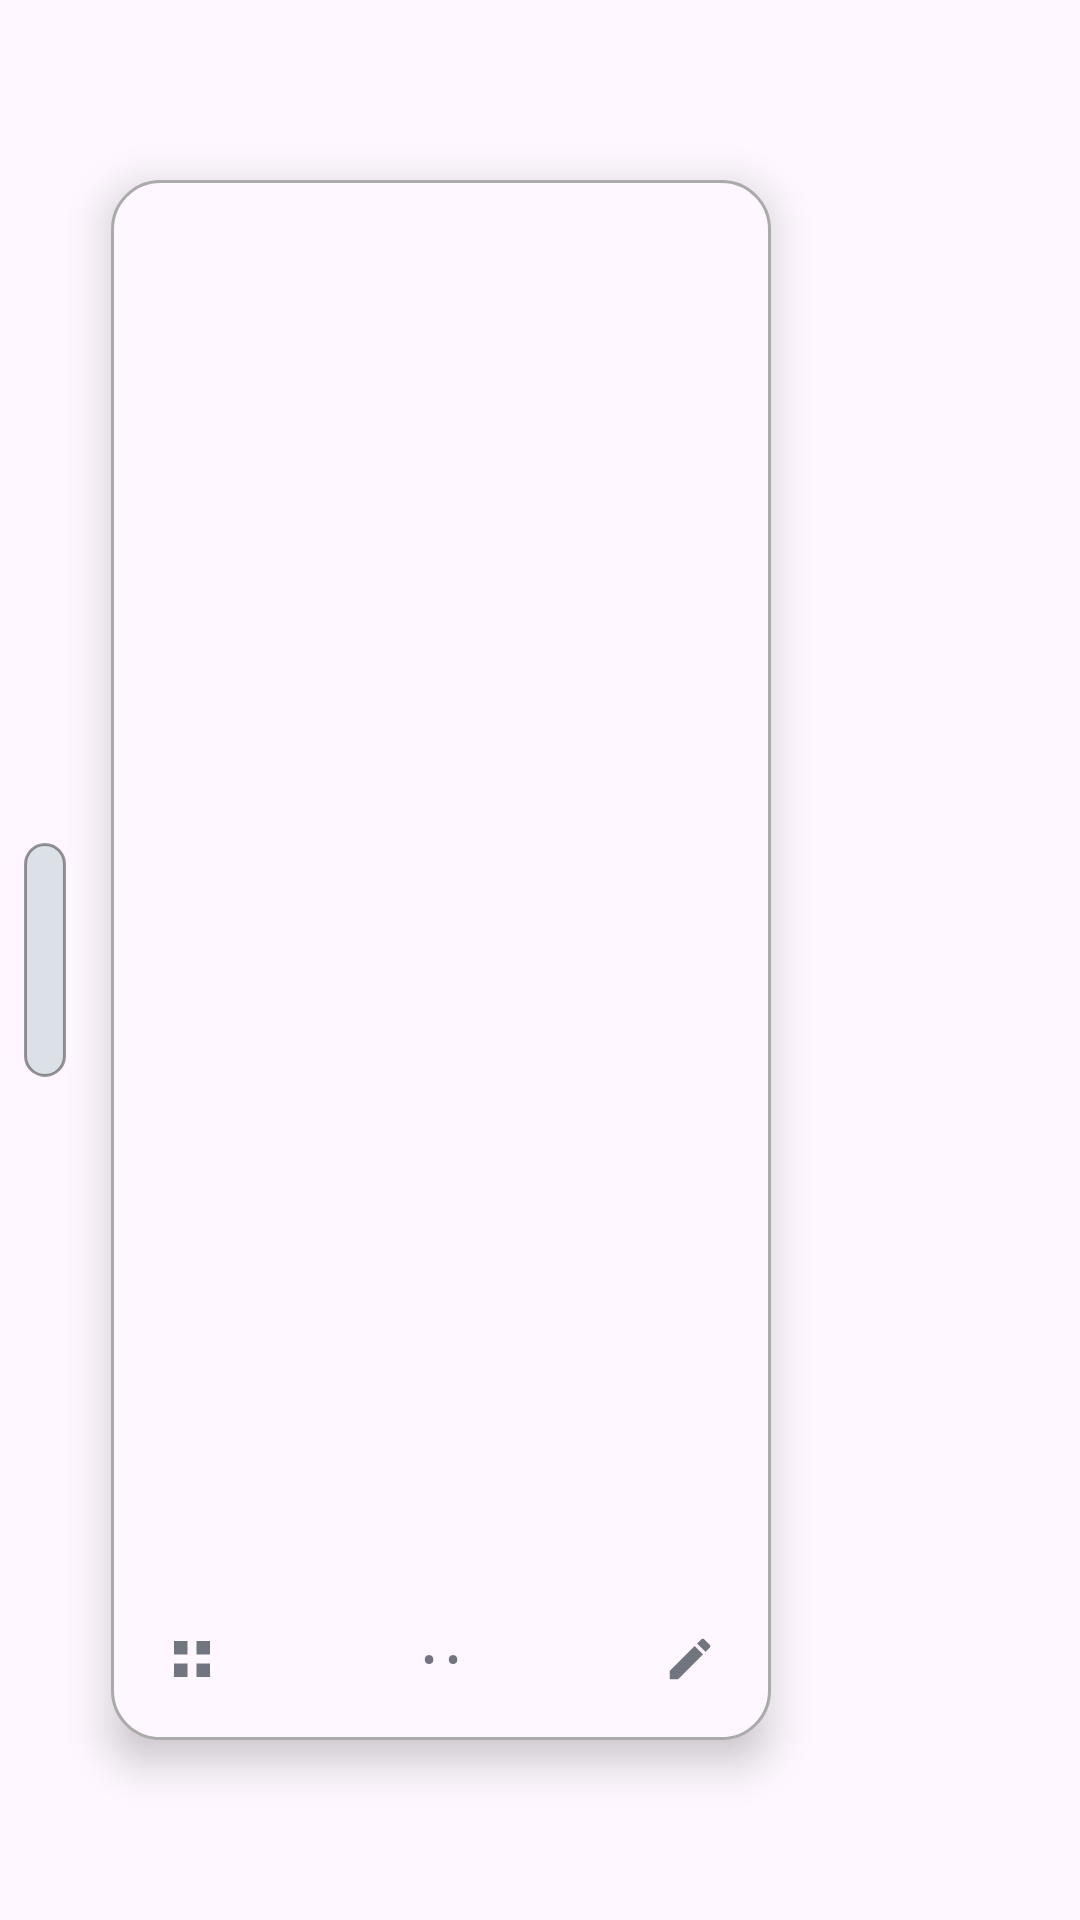

Named icons in this screenshot (1080px x 1920px) and their bounding boxes, (x1, y1, x2, y2):
Edit apps: (669, 1638, 711, 1680)
